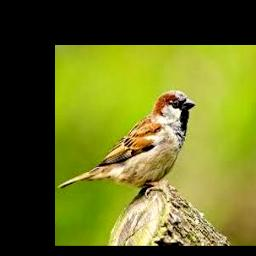Sparrow: (57, 90, 196, 198)
